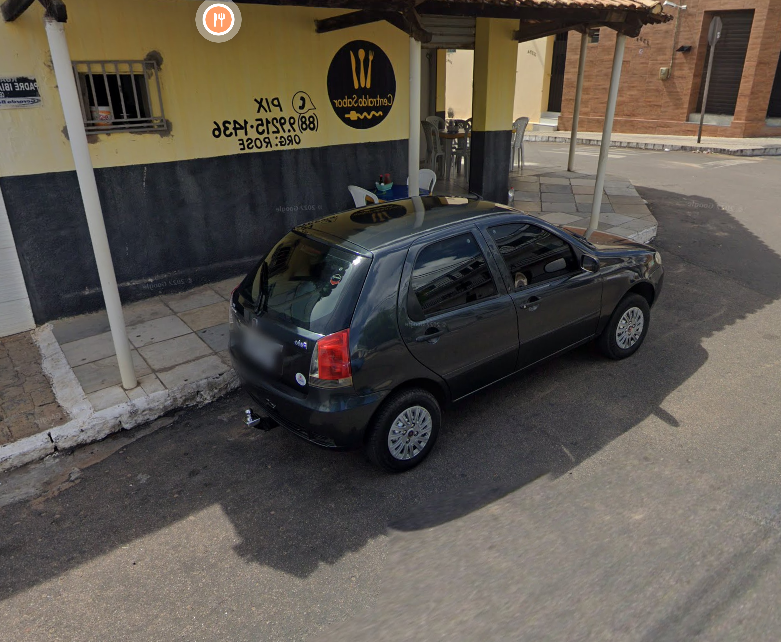car: (223, 188, 671, 478)
